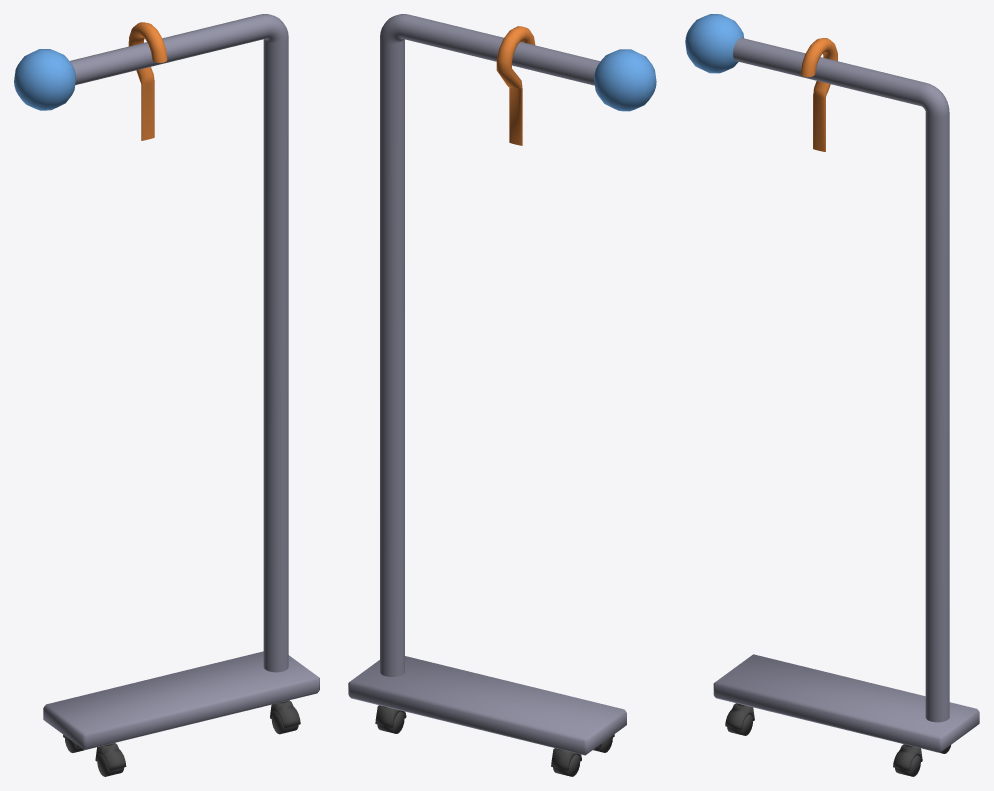
File: Aski.fbx
The picture shows the model from 3 angles, left to right: view 1: azimuth 30°, elevation 25°; view 2: azimuth 150°, elevation 25°; view 3: azimuth 330°, elevation 25°; orthographic projection. The views are drawn at different scales.
Visible parts, largest first — view 1: Aski; view 2: Aski; view 3: Aski.
Boxes of the visible parts, x1,y1,x2,y2 form: Aski: (14,14,319,776); Aski: (348,14,656,776); Aski: (685,14,979,776).
Size of the model in its own units: 70.32 by 171 by 20.69.
